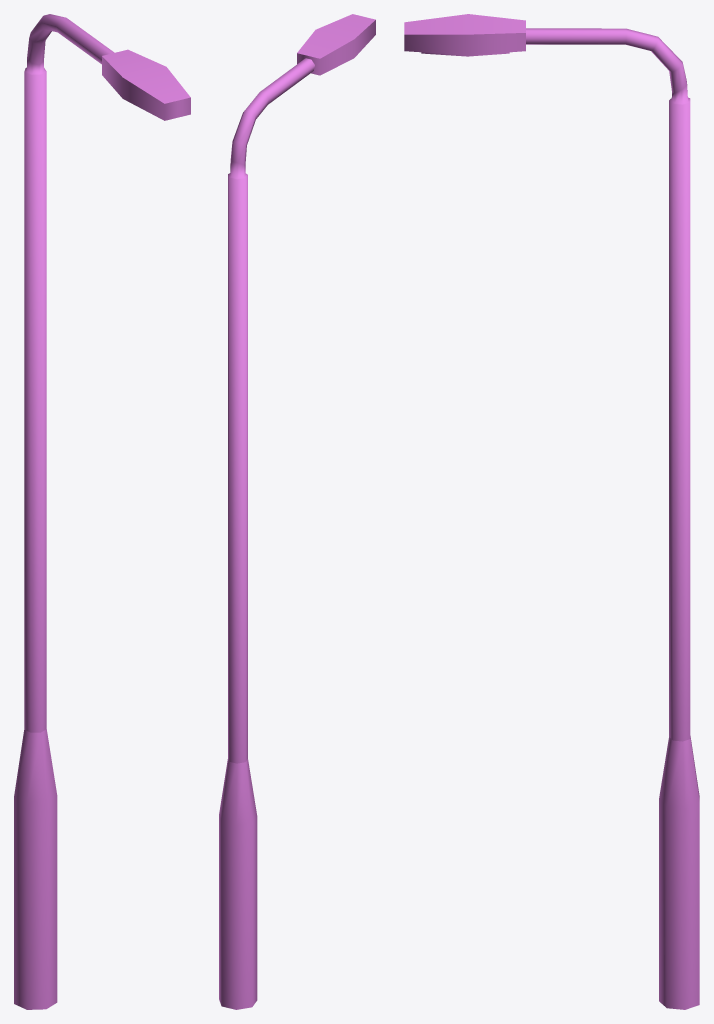
The model's file is Street licht.fbx.
The picture shows the model from 3 angles, left to right: view 1: azimuth 30°, elevation 25°; view 2: azimuth 150°, elevation 25°; view 3: azimuth 270°, elevation 25°; orthographic projection. The views are drawn at different scales.
Parts seen in each view (by area): view 1: Lichtpost; view 2: Lichtpost; view 3: Lichtpost.
Boxes of the visible parts, box(x1,y1,x2,y2) form: Lichtpost: box(14, 14, 190, 1009); Lichtpost: box(219, 14, 375, 1009); Lichtpost: box(404, 14, 699, 1009).
Size of the model in its own units: 32.41 by 714 by 196.
